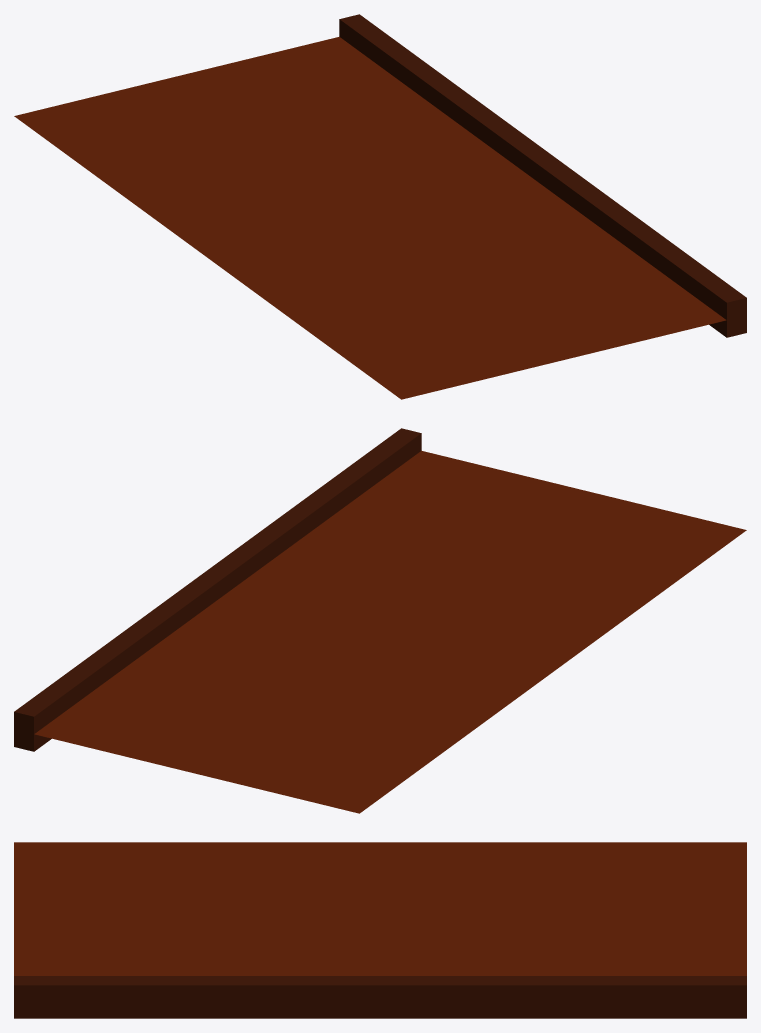
The model's file is catwalk_T_intersection.fbx.
3 renders of one model, top to bottom at view 1: azimuth 30°, elevation 25°; view 2: azimuth 150°, elevation 25°; view 3: azimuth 270°, elevation 25°, orthographic. The views are drawn at different scales.
Parts seen in each view (by area): view 1: Plane, Cube.001; view 2: Plane, Cube.001; view 3: Plane, Cube.001.
Boxes of the visible parts, x1,y1,x2,y2 form: Plane: (14,36,726,399); Cube.001: (339,14,746,337); Plane: (34,450,746,813); Cube.001: (14,428,421,751); Plane: (14,842,746,975); Cube.001: (14,976,746,1018).
Bounding box in the file's own units: 103 × 10 × 200.
